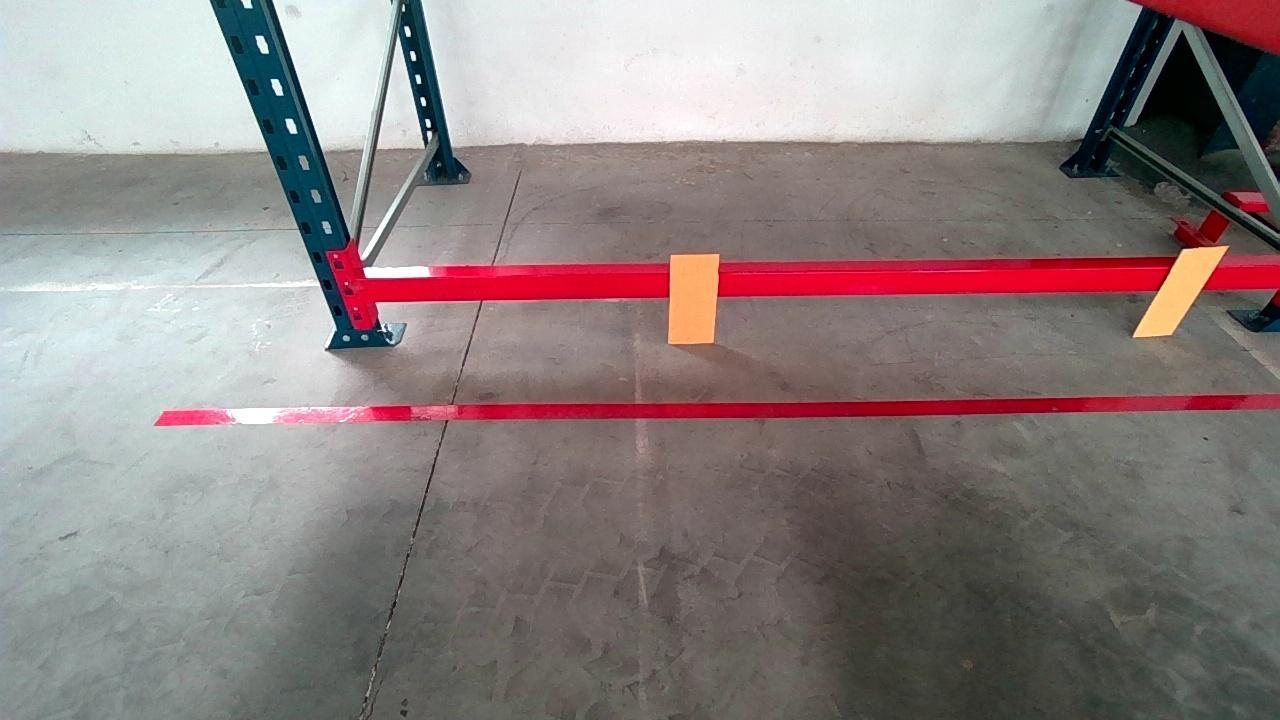h_rack: (360, 256, 1280, 305)
orange_strip: (1135, 246, 1227, 335), (669, 253, 719, 343)
red_line: (153, 391, 1280, 427)
